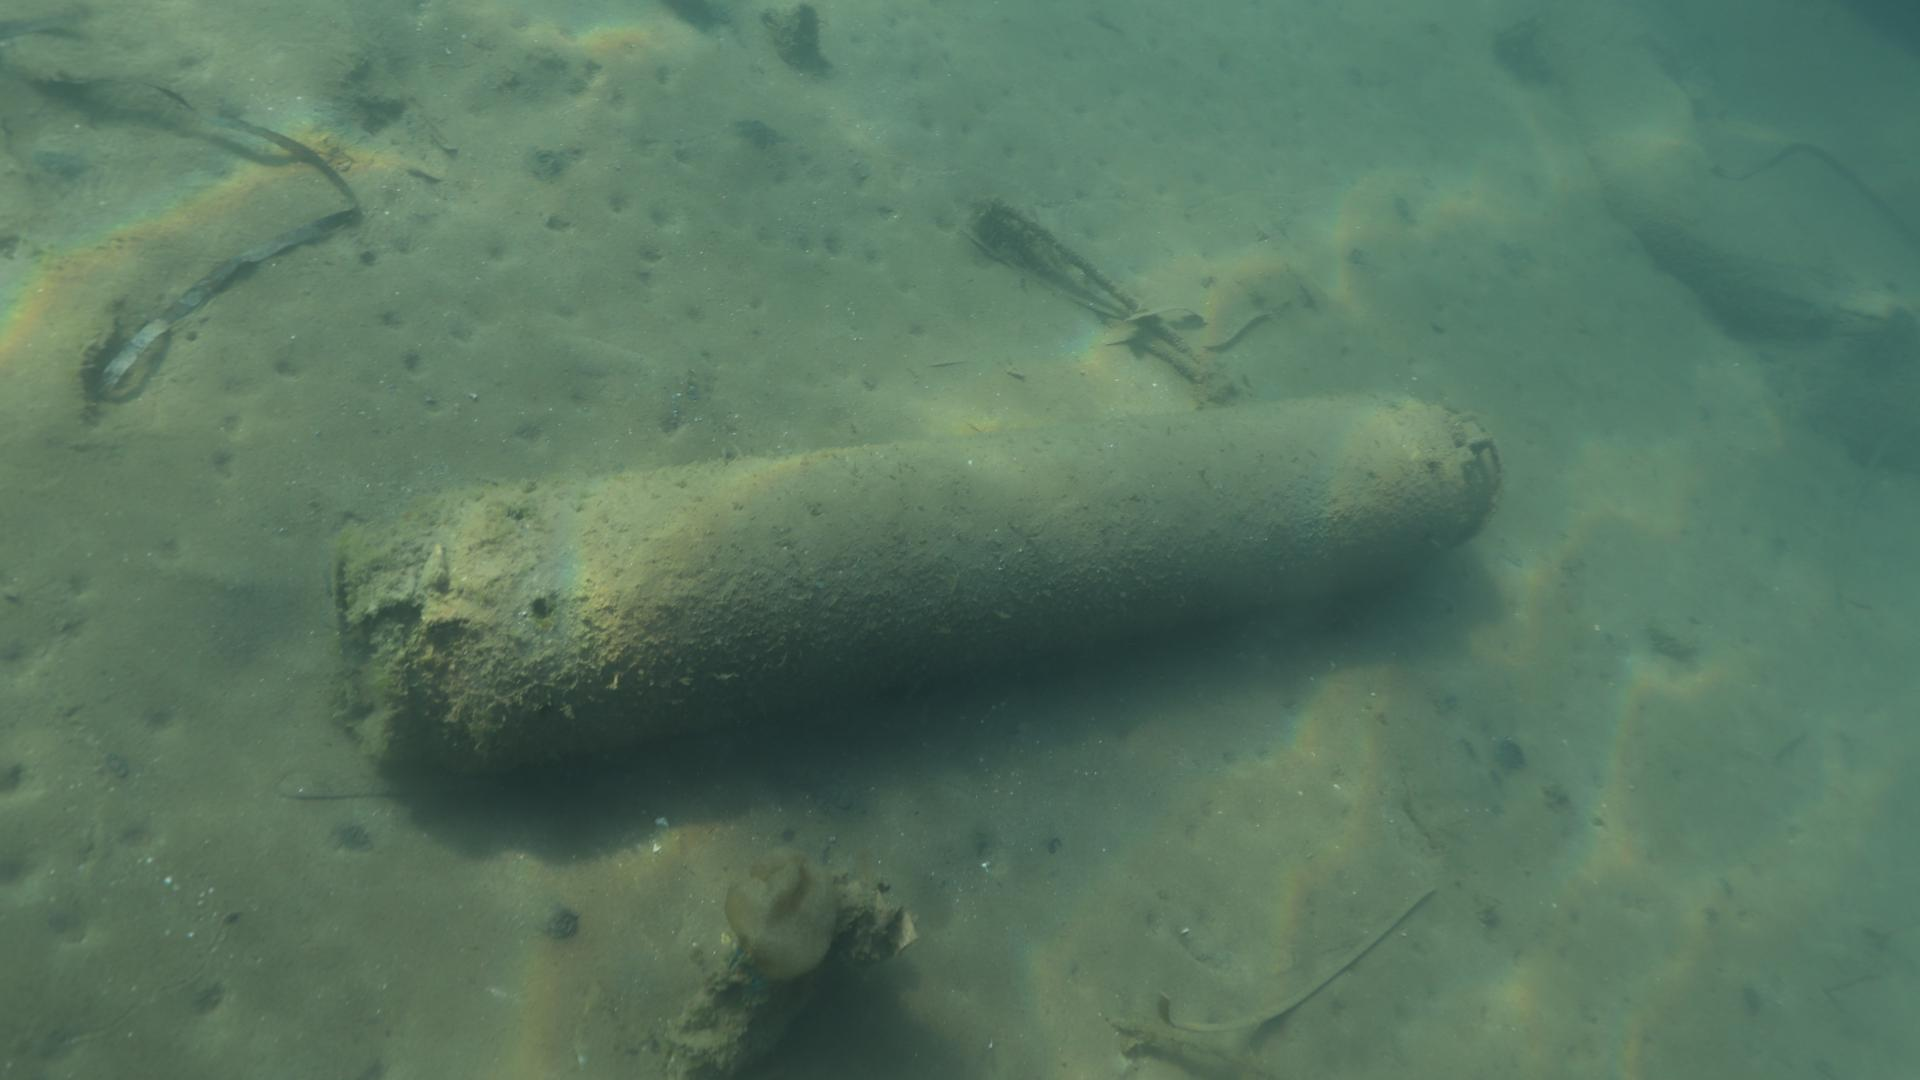eel fish trap: (326, 392, 1493, 781)
